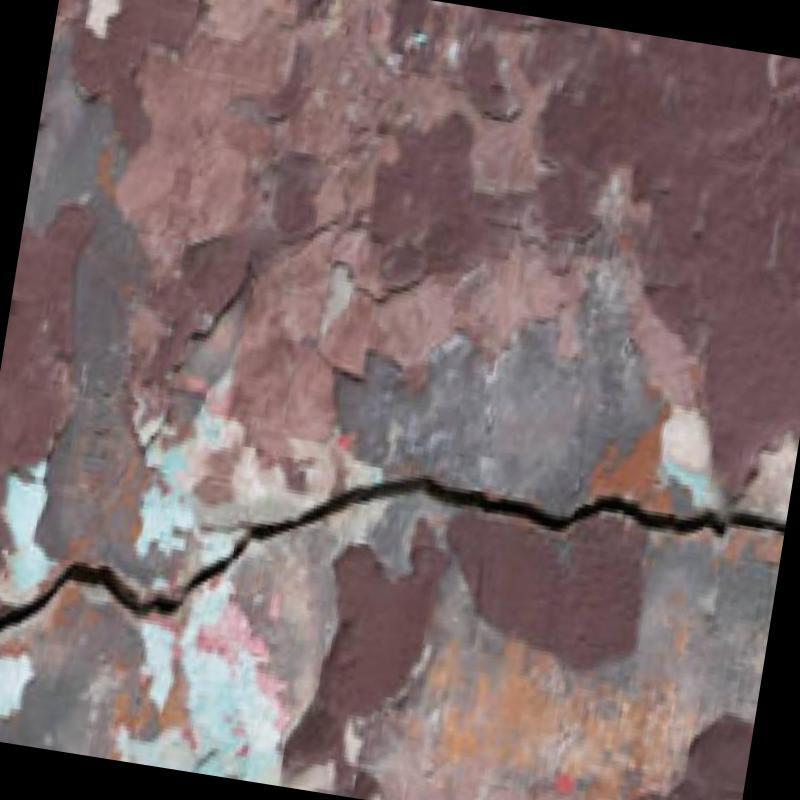crack: (0, 476, 784, 633)
